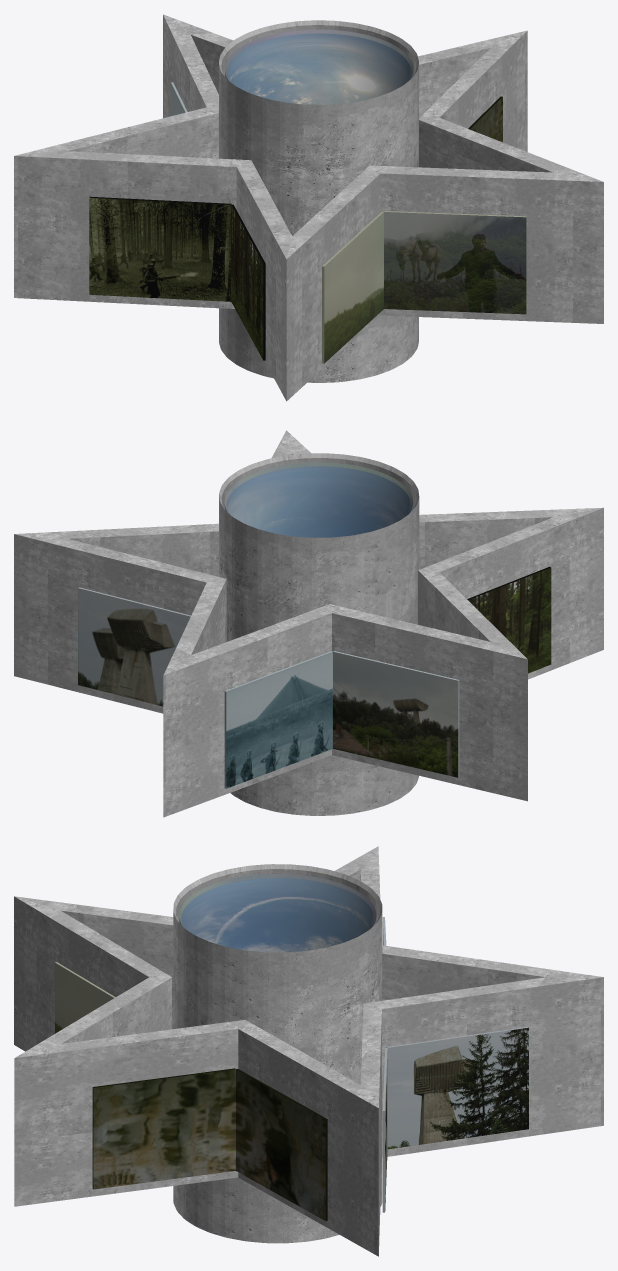
The model's file is tjentiste.glb.
3 renders of one model, top to bottom at view 1: azimuth 30°, elevation 25°; view 2: azimuth 150°, elevation 25°; view 3: azimuth 270°, elevation 25°, orthographic. The views are drawn at different scales.
Parts seen in each view (by area): view 1: neuer Stern, Circle, videotarget, kozara, Cylinder.003, mostar; view 2: neuer Stern, Circle, mitrovica, Cylinder.003, Nis, kozara; view 3: neuer Stern, Circle, mostar, Nis, Cylinder.003, videotarget.
Boxes of the visible parts, x1,y1,x2,y2 form: neuer Stern: (14, 14, 603, 401); Circle: (219, 20, 418, 382); videotarget: (322, 211, 526, 363); kozara: (89, 196, 265, 360); Cylinder.003: (225, 29, 413, 104); mostar: (468, 96, 502, 142); neuer Stern: (14, 430, 603, 817); Circle: (219, 453, 419, 815); mitrovica: (224, 651, 459, 788); Cylinder.003: (224, 462, 413, 537); Nis: (78, 587, 190, 706); kozara: (467, 566, 551, 673); neuer Stern: (14, 846, 603, 1256); Circle: (173, 864, 382, 1243); mostar: (92, 1068, 327, 1221); Nis: (382, 1027, 528, 1212); Cylinder.003: (179, 874, 376, 952); videotarget: (55, 962, 115, 1033).
Size of the model in its own units: 13.96 by 7.22 by 13.28.
8 materials, 8 textured.
